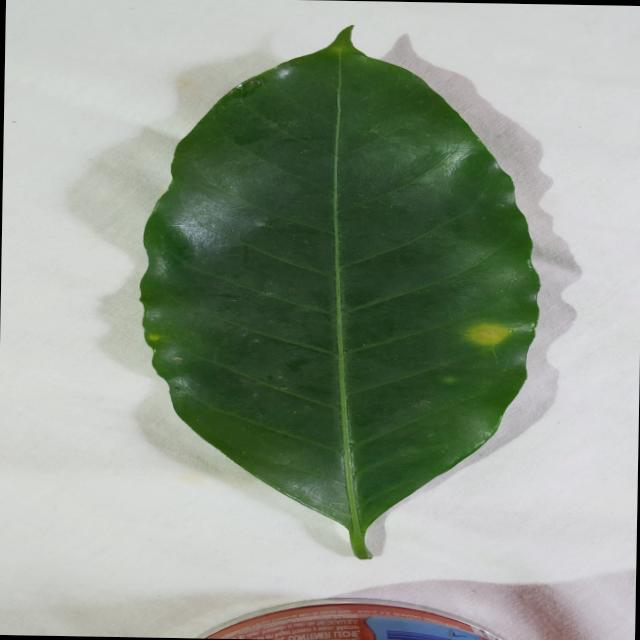KaratDaunKopi: (467, 323, 510, 345)
